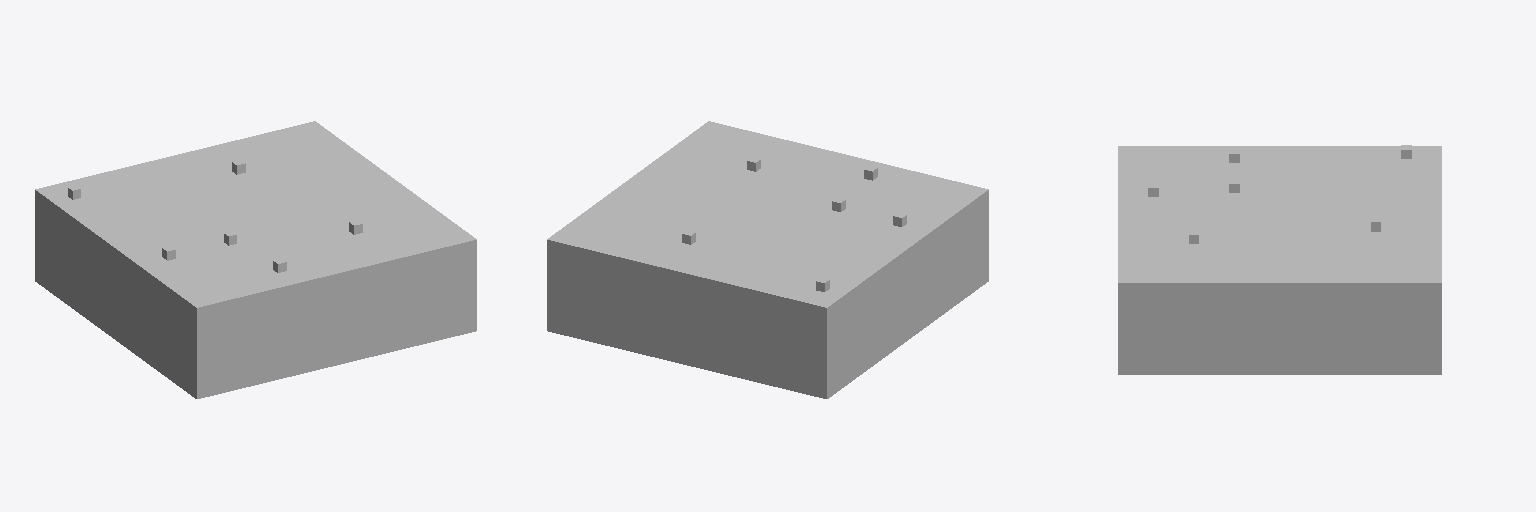
File: RoadStraightTile.obj
The picture shows the model from 3 angles: view 1: azimuth 30°, elevation 25°; view 2: azimuth 150°, elevation 25°; view 3: azimuth 270°, elevation 25°; orthographic projection.
Visible parts, largest first — view 1: Untitled; view 2: Untitled; view 3: Untitled.
Boxes of the visible parts, x1=… form: Untitled: x1=35, y1=121, x2=476, y2=398; Untitled: x1=547, y1=121, x2=988, y2=398; Untitled: x1=1118, y1=145, x2=1441, y2=374.
Bounding box in the file's own units: 3.2 × 1.11 × 3.2.